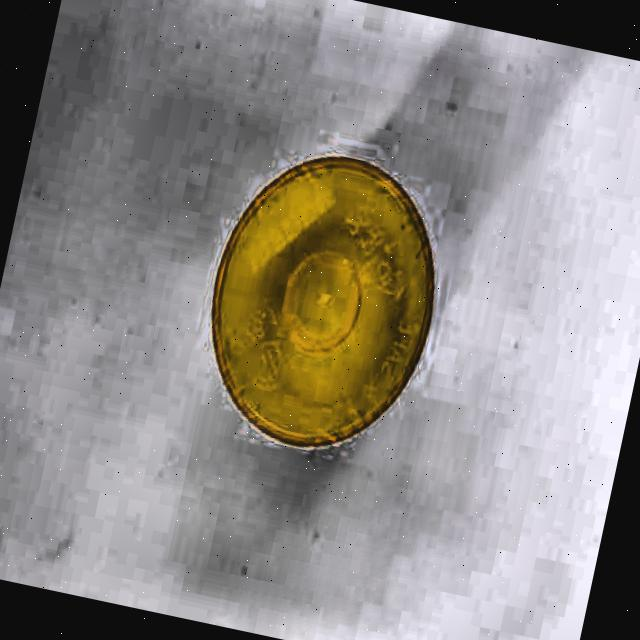plastic: (180, 131, 464, 466)
